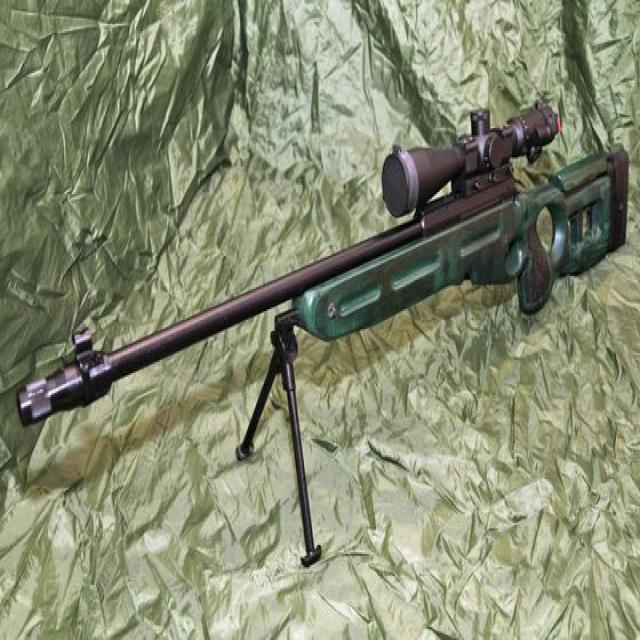firearm: (18, 101, 631, 572)
